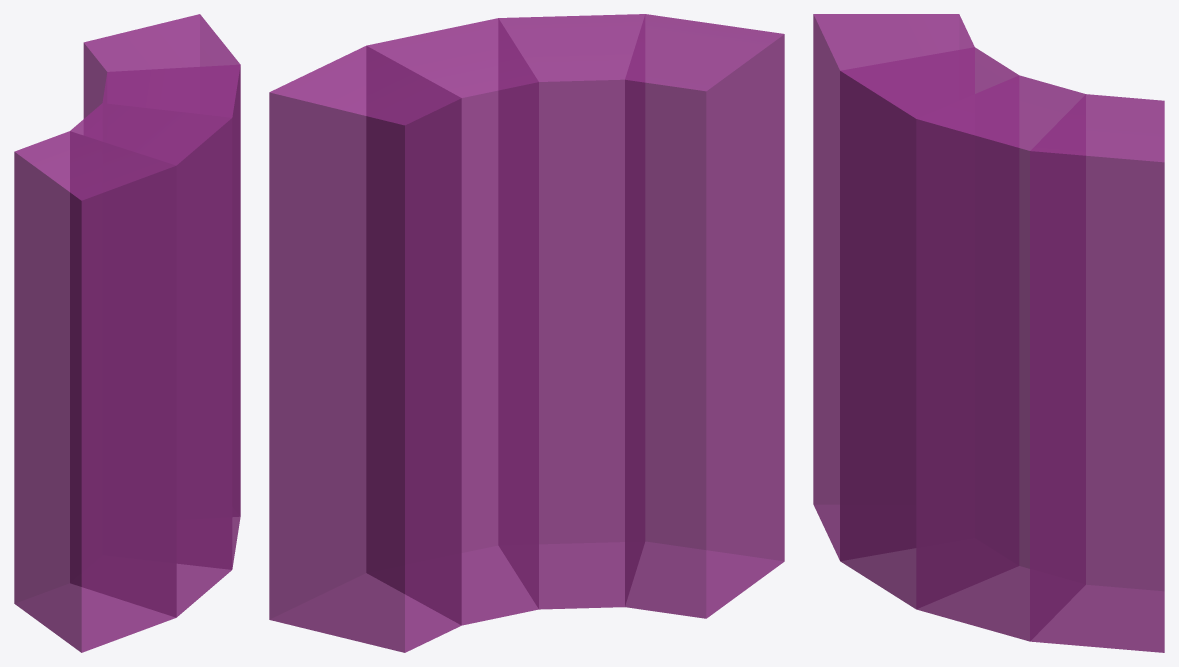
File: SM_Bld_Wall_Fort_Straight_Round_01_Collision.fbx
3 views of the same model, side by side, from view 1: azimuth 30°, elevation 25°; view 2: azimuth 150°, elevation 25°; view 3: azimuth 270°, elevation 25° (orthographic). The views are drawn at different scales.
Parts seen in each view (by area): view 1: SM_Bld_Wall_Fort_Straight_Round_01_Collision; view 2: SM_Bld_Wall_Fort_Straight_Round_01_Collision; view 3: SM_Bld_Wall_Fort_Straight_Round_01_Collision.
Boxes of the visible parts, box(x1,y1,x2,y2) form: SM_Bld_Wall_Fort_Straight_Round_01_Collision: box(14, 14, 240, 652); SM_Bld_Wall_Fort_Straight_Round_01_Collision: box(269, 14, 784, 652); SM_Bld_Wall_Fort_Straight_Round_01_Collision: box(813, 14, 1164, 652).
Size of the model in its own units: 394 by 608 by 394.
